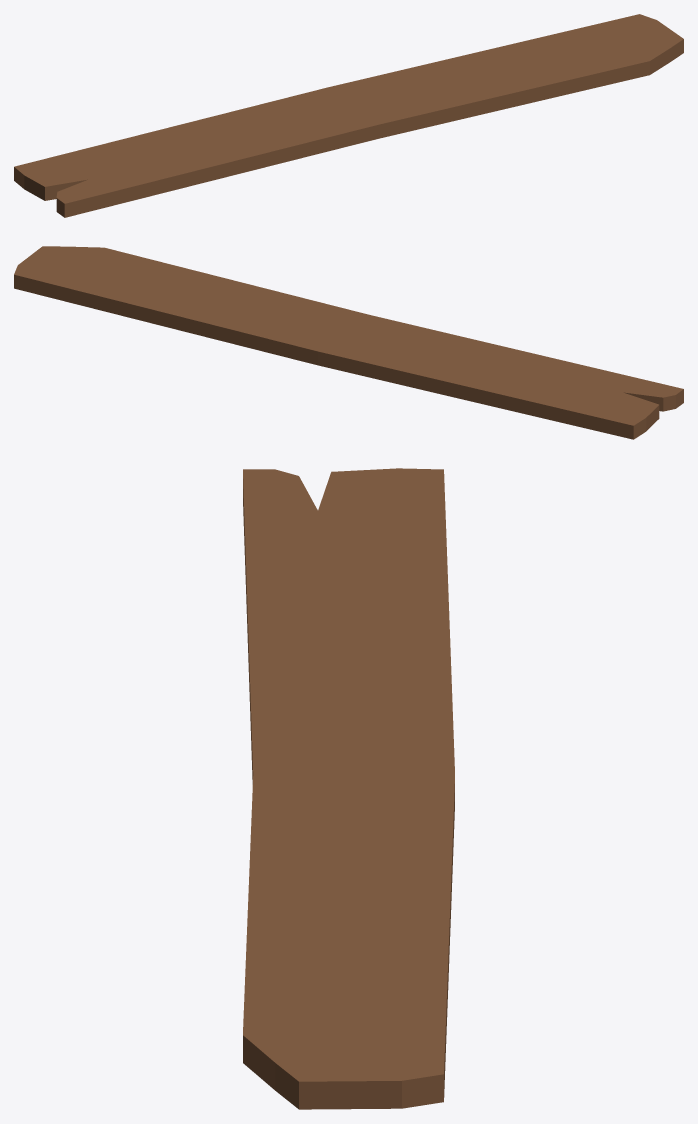
The model's file is Plank_03.fbx.
3 views of the same model, one above another, from view 1: azimuth 30°, elevation 25°; view 2: azimuth 150°, elevation 25°; view 3: azimuth 270°, elevation 25° (orthographic). The views are drawn at different scales.
Visible parts, largest first — view 1: Plank_03_LOD0; view 2: Plank_03_LOD0; view 3: Plank_03_LOD0.
Boxes of the visible parts, x1,y1,x2,y2 form: Plank_03_LOD0: (14, 14, 683, 217); Plank_03_LOD0: (14, 246, 683, 439); Plank_03_LOD0: (243, 468, 454, 1109).
Size of what is drawn, in the model's own units: 1.78 by 0.0377 by 0.26.
